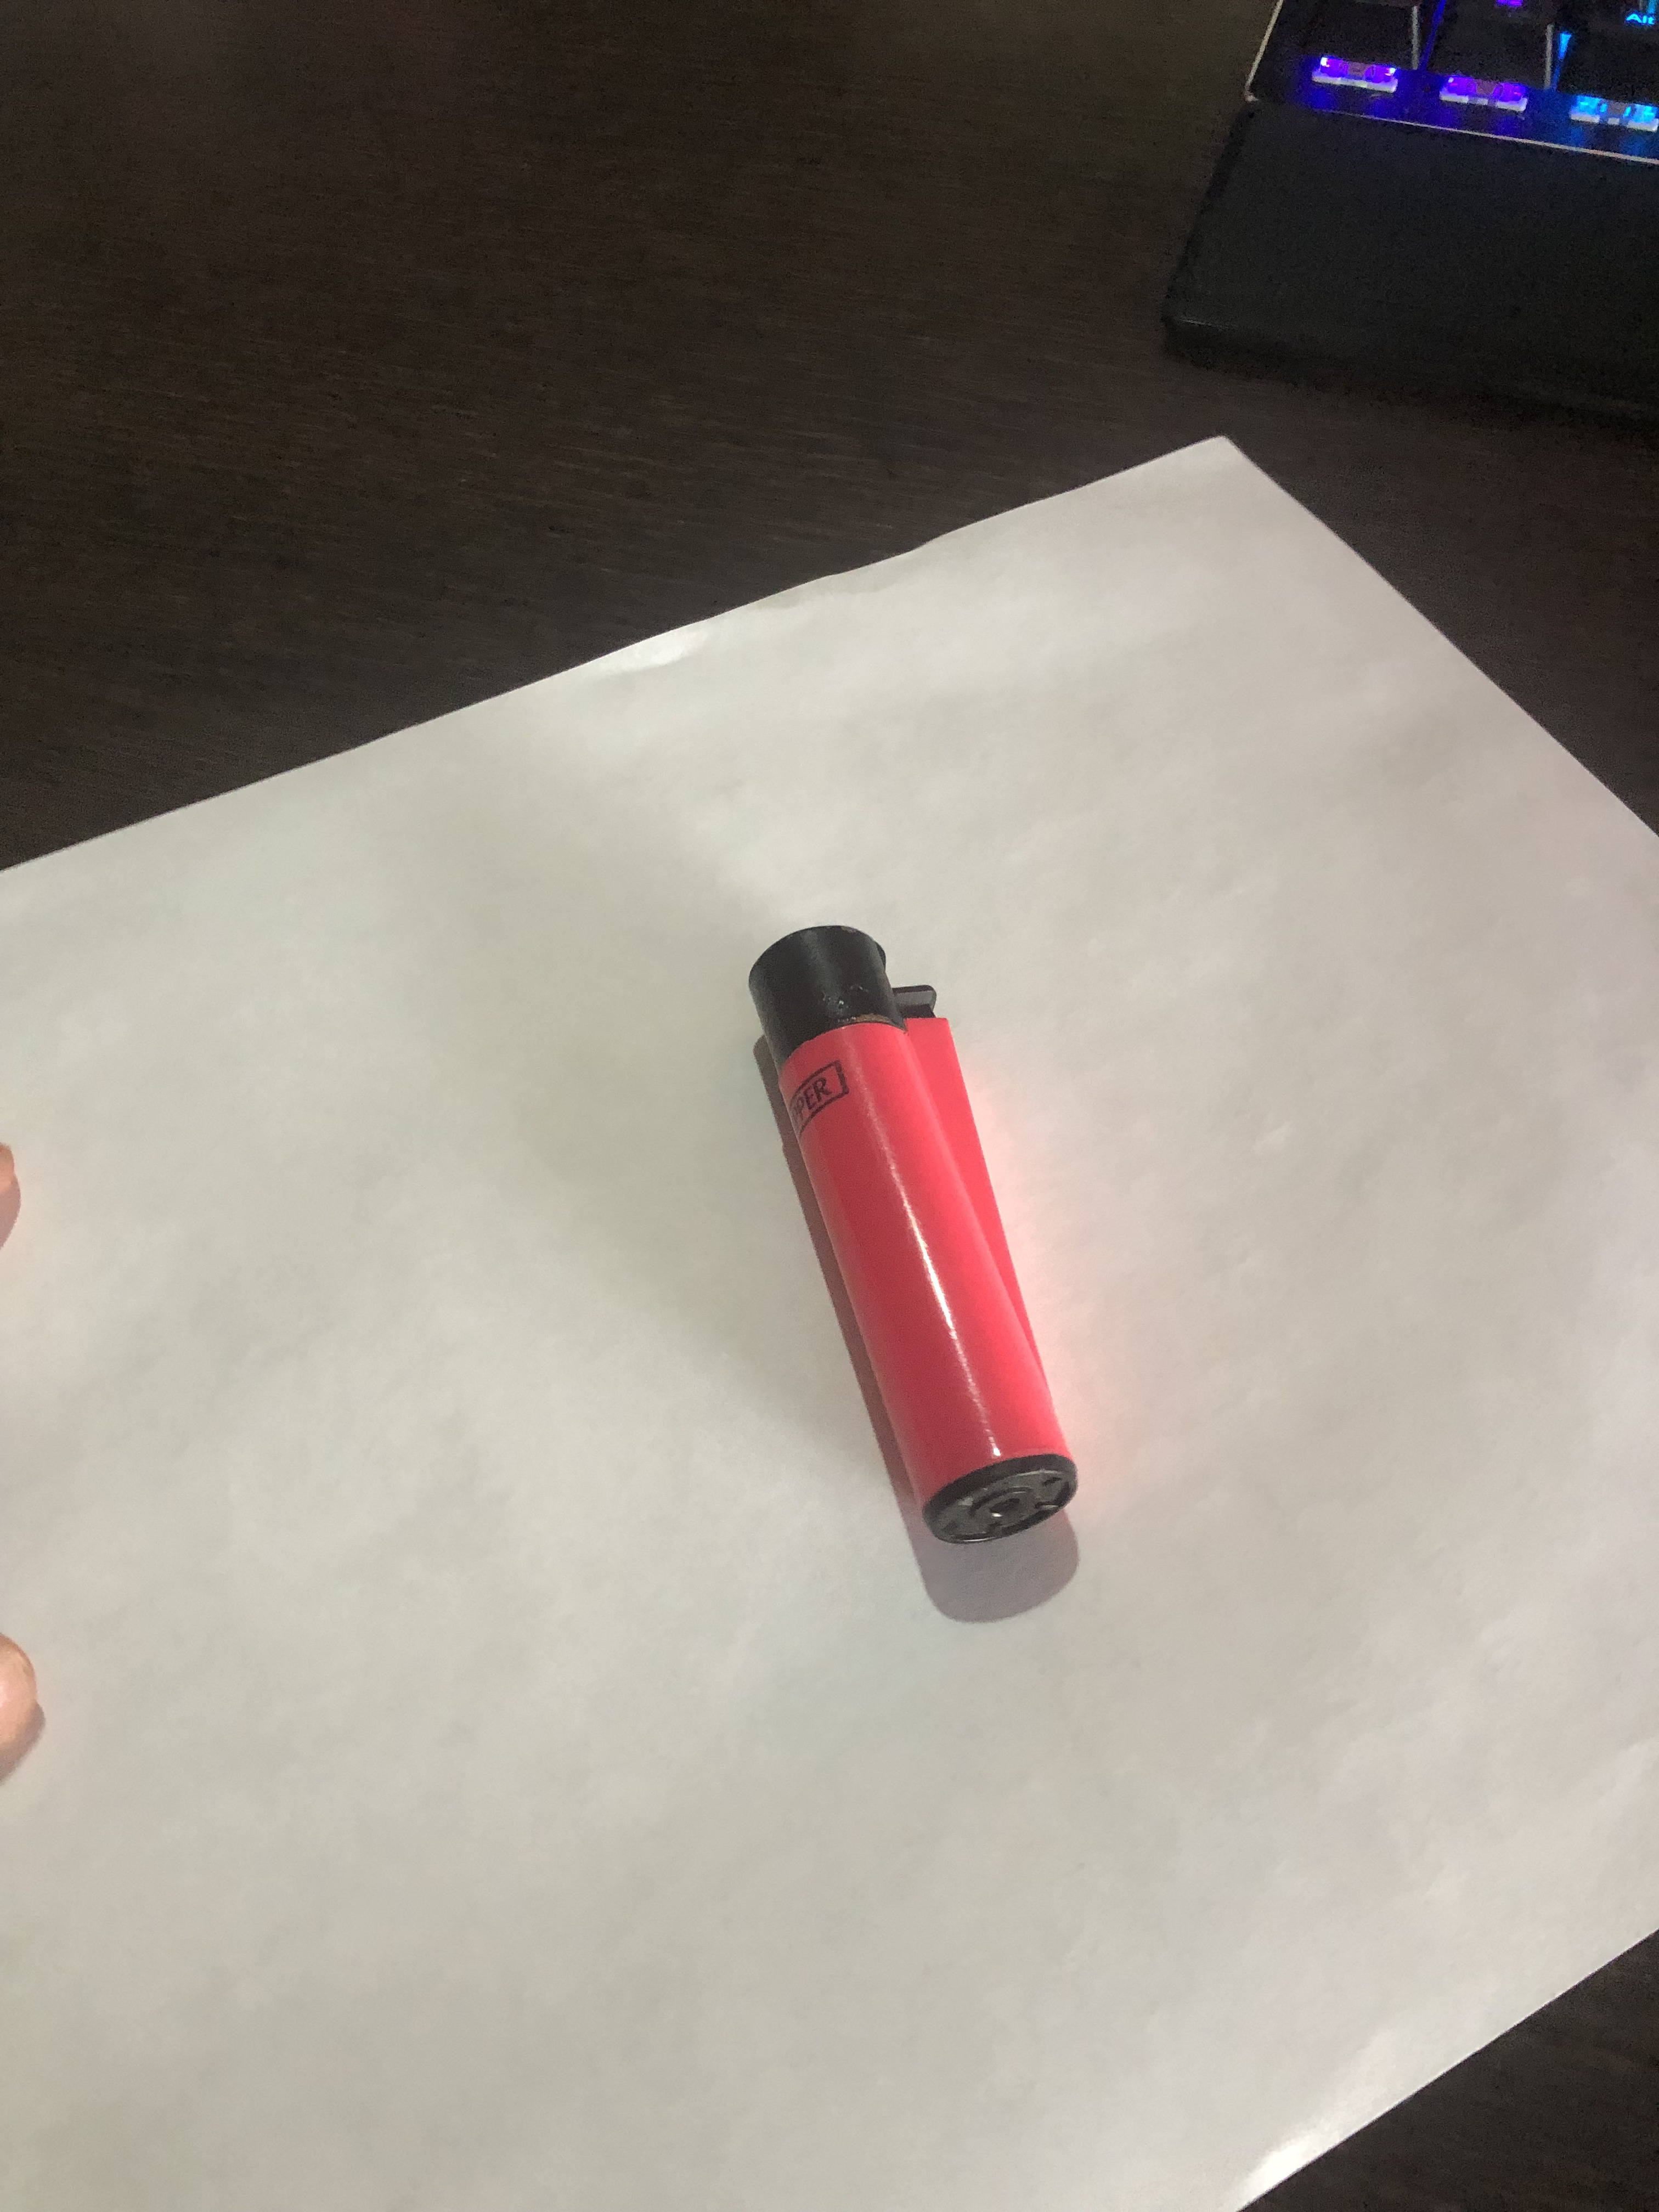Mechero: (674, 885, 1112, 1555)
